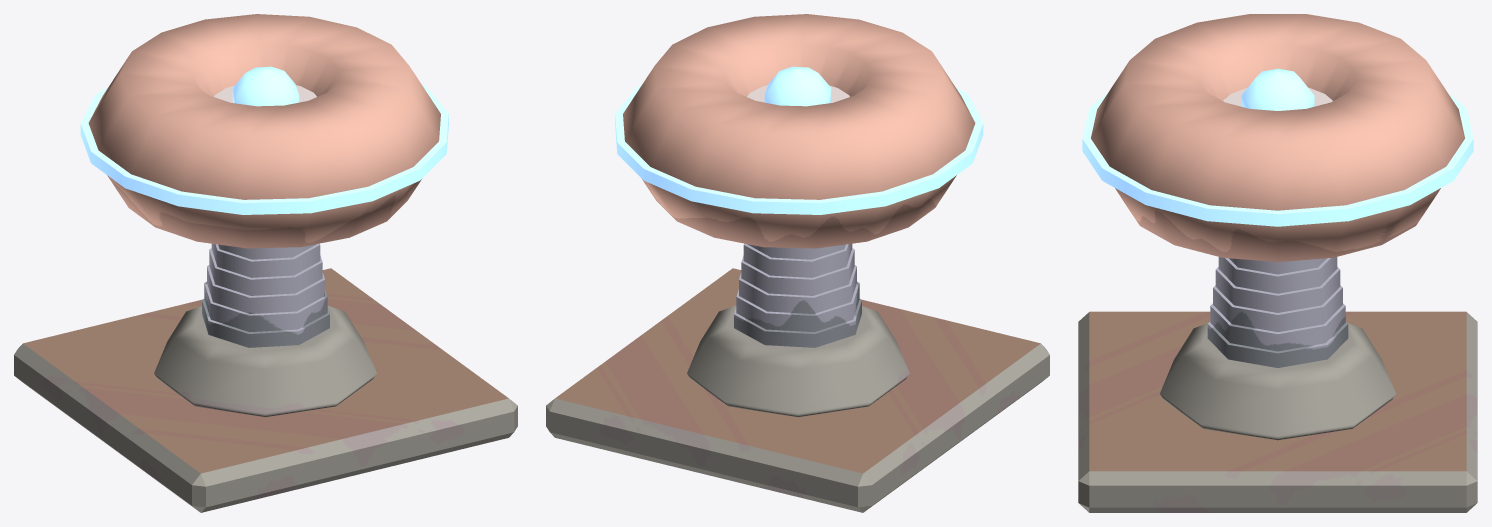
File: R4X_AreaEMP_LOD1.glb
3 renders of one model, left to right at view 1: azimuth 30°, elevation 25°; view 2: azimuth 150°, elevation 25°; view 3: azimuth 270°, elevation 25°, orthographic. The views are drawn at different scales.
Visible parts, largest first — view 1: R4X_AreaEMP_LOD1; view 2: R4X_AreaEMP_LOD1; view 3: R4X_AreaEMP_LOD1.
Part boxes in pixels (box(x1,y1,x2,y2)): R4X_AreaEMP_LOD1: box(14, 14, 517, 512); R4X_AreaEMP_LOD1: box(546, 14, 1049, 512); R4X_AreaEMP_LOD1: box(1078, 14, 1477, 512).
Size of the model in its own units: 0.52 by 0.52 by 0.52.
Materials: 5 (4 with a texture image).
